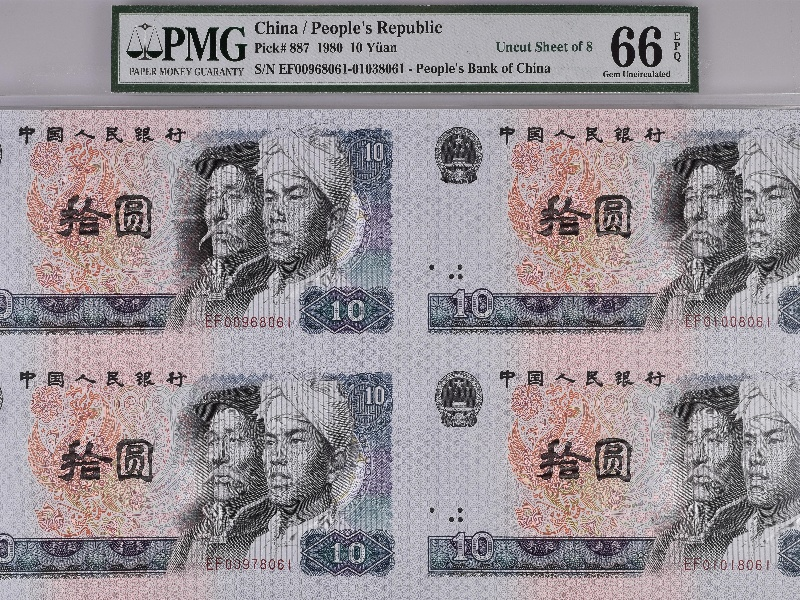papernote: (1, 107, 800, 598)
